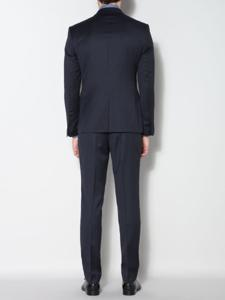F_M_suit jacket: (62, 7, 160, 136)
F_dress pants: (74, 120, 143, 280)
F_dress shoes: (118, 276, 143, 299), (80, 278, 103, 295)
